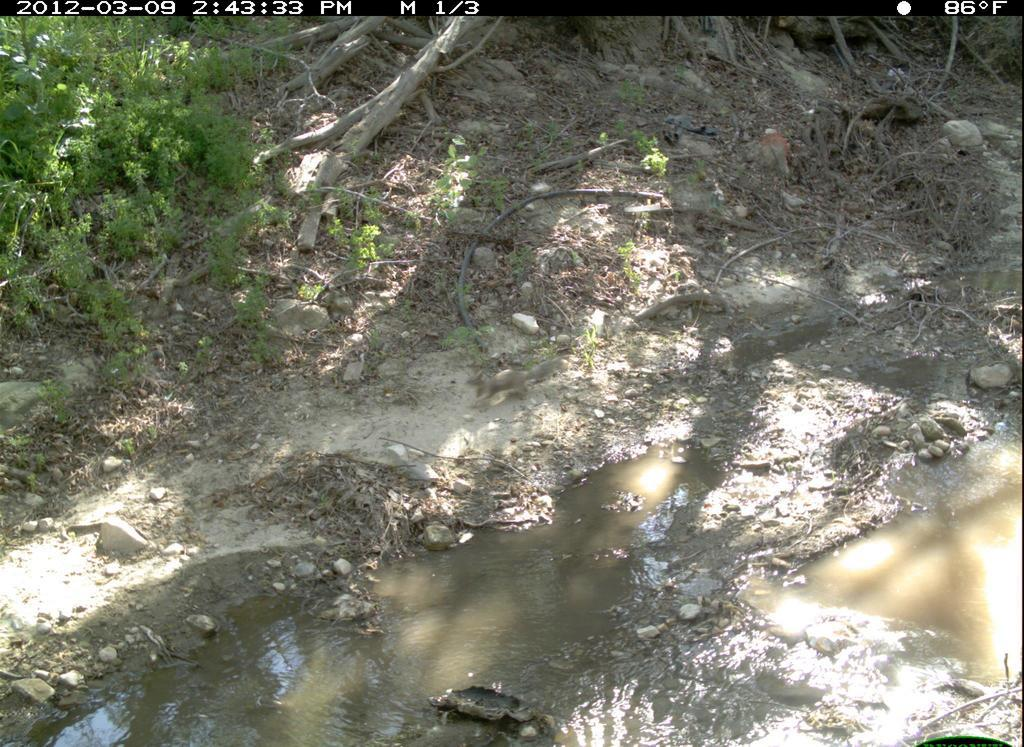squirrel: (460, 351, 578, 408)
